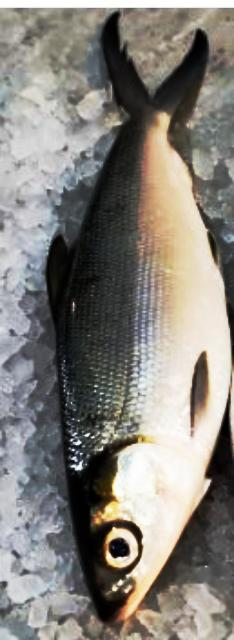Healthy Fish: (45, 13, 234, 633)
